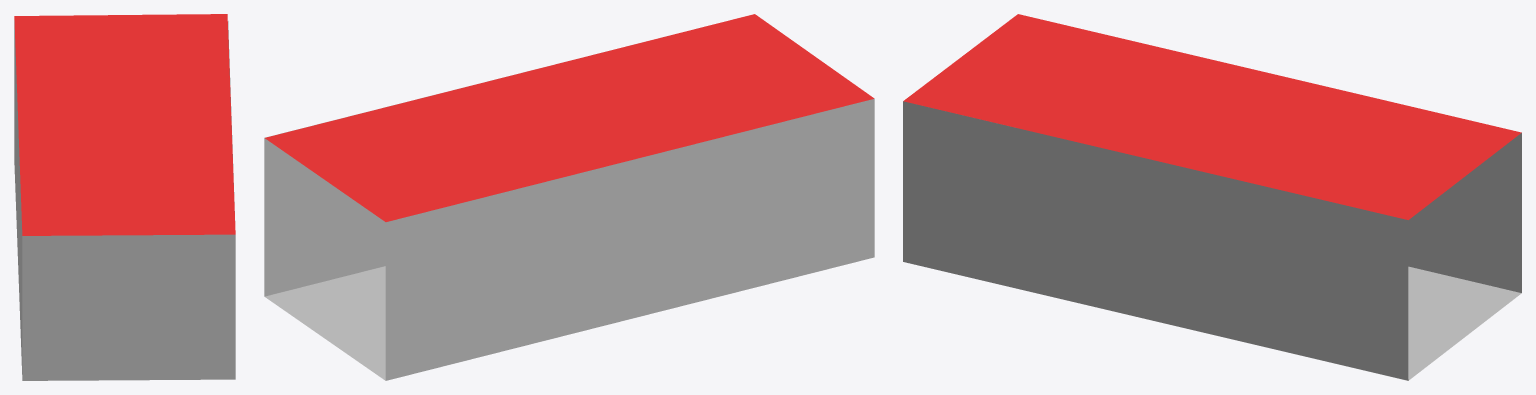
The model's file is pb-9635e7f7-7f36-11f0-b7ce-9c7bef4dcf4c.dae.
The picture shows the model from 3 angles, left to right: view 1: azimuth 30°, elevation 25°; view 2: azimuth 150°, elevation 25°; view 3: azimuth 270°, elevation 25°; orthographic projection. The views are drawn at different scales.
Size of the model in its own units: 24.79 by 31.42 by 9.
